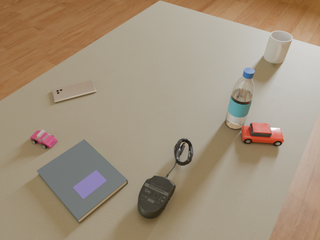book: (37, 140, 128, 223)
bottle: (225, 68, 255, 129)
cup: (264, 31, 293, 63)
mouse: (138, 173, 176, 219)
phone: (52, 80, 96, 103)
toy_car: (241, 123, 284, 146), (30, 130, 57, 148)
